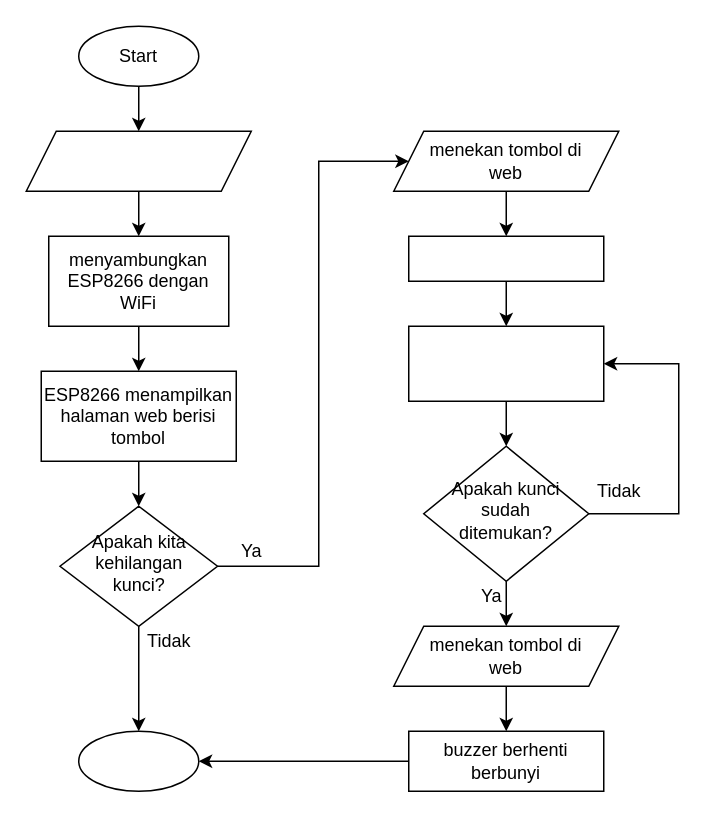
Some shapes in this 717 by 818 pixel diagram are drawn without their labels. The centre of each missing label's shape, as x and y in pixels:
buzzer berbunyi: the point at 505,258
End: the point at 138,760
inisiasi Port ESP8266 untuk buzzer: the point at 138,160
kita mengikuti sumber suara buzzer: the point at 505,363
